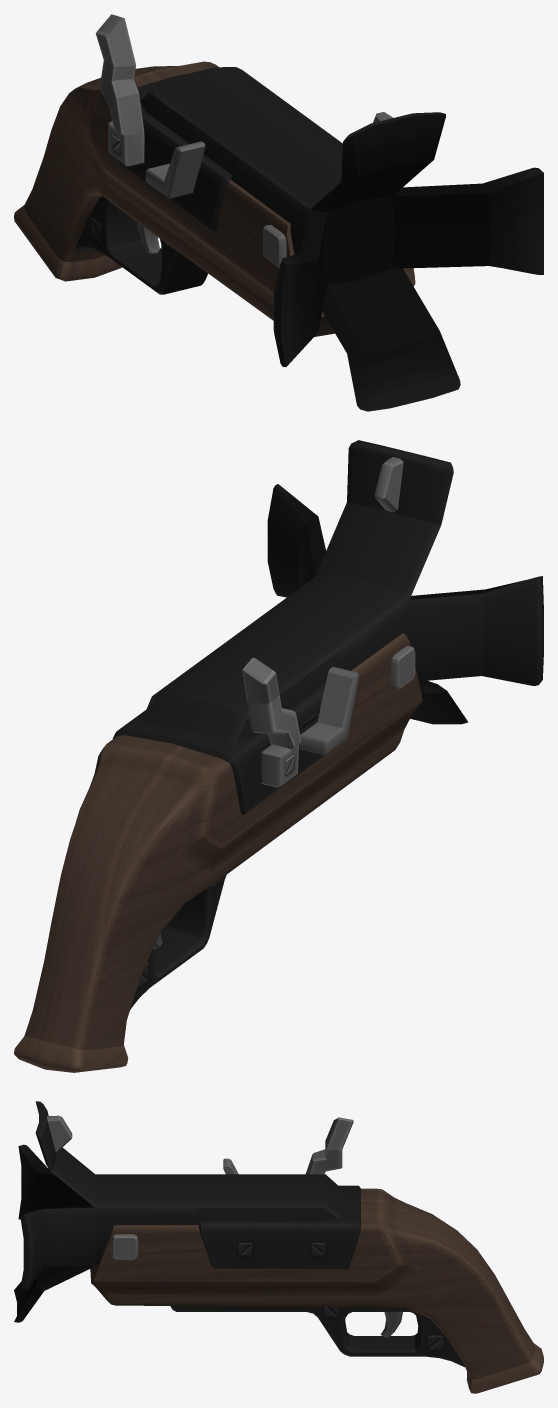
Rendered from flintlock broken.glb.
3 views of the same model, one above another, from view 1: azimuth 30°, elevation 25°; view 2: azimuth 150°, elevation 25°; view 3: azimuth 270°, elevation 25° (orthographic). The views are drawn at different scales.
Visible parts, largest first — view 1: Quest_Pirate_Flintlock_Broken, Quest_Pirate_FlintlockHammer_Broken; view 2: Quest_Pirate_Flintlock_Broken, Quest_Pirate_FlintlockHammer_Broken; view 3: Quest_Pirate_Flintlock_Broken, Quest_Pirate_FlintlockHammer_Broken.
Boxes of the visible parts, x1=… form: Quest_Pirate_Flintlock_Broken: x1=14, y1=61, x2=543, y2=411; Quest_Pirate_FlintlockHammer_Broken: x1=95, y1=14, x2=144, y2=166; Quest_Pirate_Flintlock_Broken: x1=14, y1=440, x2=543, y2=1072; Quest_Pirate_FlintlockHammer_Broken: x1=242, y1=658, x2=301, y2=787; Quest_Pirate_Flintlock_Broken: x1=14, y1=1101, x2=543, y2=1393; Quest_Pirate_FlintlockHammer_Broken: x1=305, y1=1117, x2=353, y2=1174.
Size of the model in its own units: 0.1671 by 0.2255 by 0.3996.
Materials: 1 (1 with a texture image).
